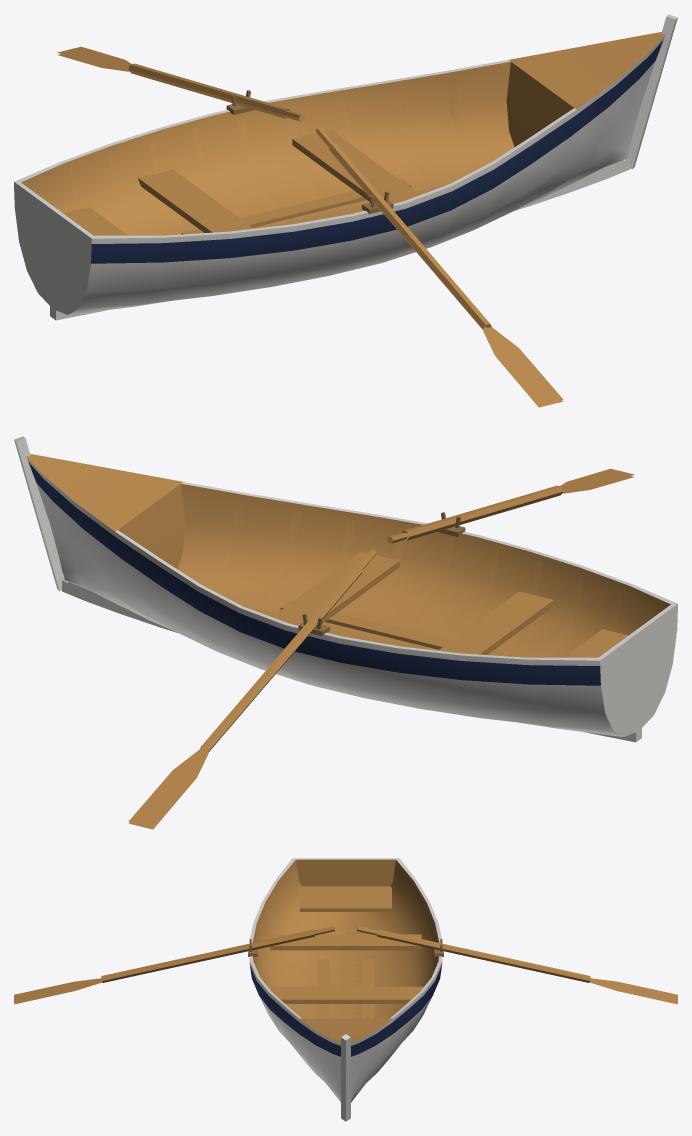
The model's file is boat_rowing.glb.
The picture shows the model from 3 angles, top to bottom: view 1: azimuth 30°, elevation 25°; view 2: azimuth 150°, elevation 25°; view 3: azimuth 270°, elevation 25°; orthographic projection. The views are drawn at different scales.
Parts seen in each view (by area): view 1: boat_rowing_lod0, boat_rowing_oar_stbd_lod0, boat_rowing_oar_port_lod0; view 2: boat_rowing_lod0, boat_rowing_oar_port_lod0, boat_rowing_oar_stbd_lod0; view 3: boat_rowing_lod0, boat_rowing_oar_port_lod0, boat_rowing_oar_stbd_lod0.
Boxes of the visible parts, box(x1,y1,x2,y2) form: boat_rowing_lod0: box(14, 14, 677, 320); boat_rowing_oar_stbd_lod0: box(315, 127, 563, 407); boat_rowing_oar_port_lod0: box(57, 46, 304, 121); boat_rowing_lod0: box(14, 436, 677, 742); boat_rowing_oar_port_lod0: box(128, 549, 376, 829); boat_rowing_oar_stbd_lod0: box(387, 468, 634, 543); boat_rowing_lod0: box(248, 858, 443, 1121); boat_rowing_oar_port_lod0: box(357, 926, 677, 1004); boat_rowing_oar_stbd_lod0: box(14, 926, 334, 1004).
Size of what is drawn, in the model's own units: 3.57 by 0.8708 by 4.77.
